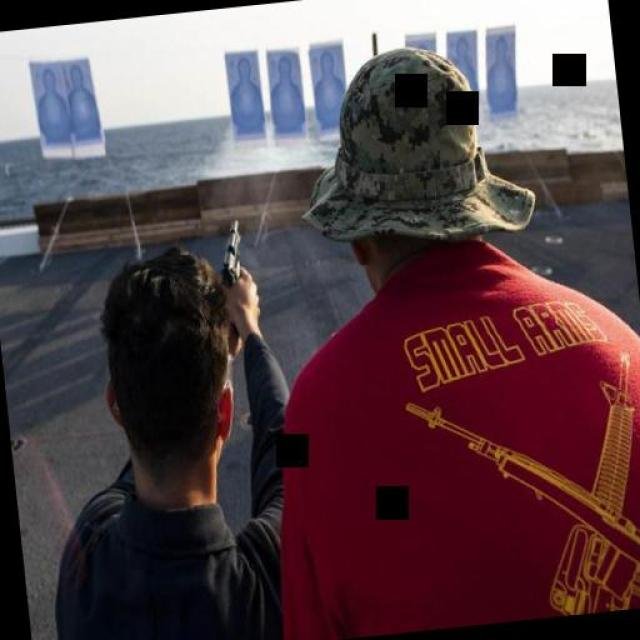gun: (214, 216, 248, 292)
